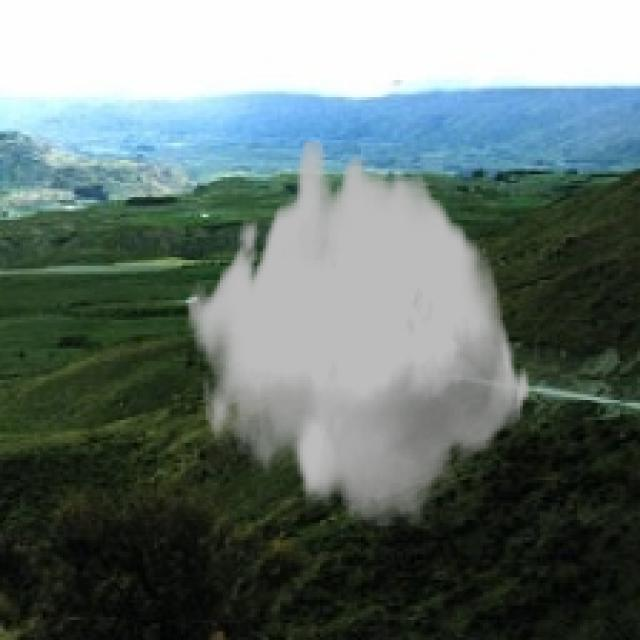smoke: (186, 140, 531, 526)
